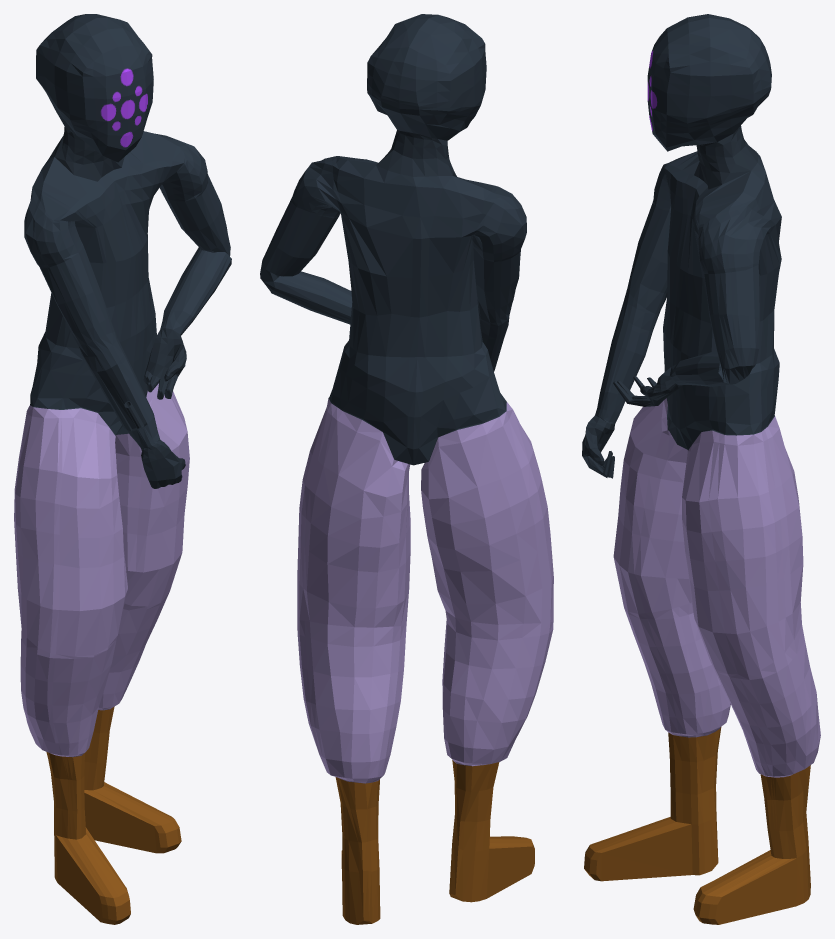
Rendered from Oracle_WR_000001.obj.
3 views of the same model, side by side, from view 1: azimuth 30°, elevation 25°; view 2: azimuth 150°, elevation 25°; view 3: azimuth 270°, elevation 25° (orthographic). The views are drawn at different scales.
Parts seen in each view (by area): view 1: Cube; view 2: Cube; view 3: Cube.
Part boxes in pixels (x1,y1,x2,y2): Cube: (14, 14, 231, 924); Cube: (260, 14, 553, 924); Cube: (582, 14, 820, 924).
Size of the model in its own units: 1.16 by 3.94 by 0.9745.
